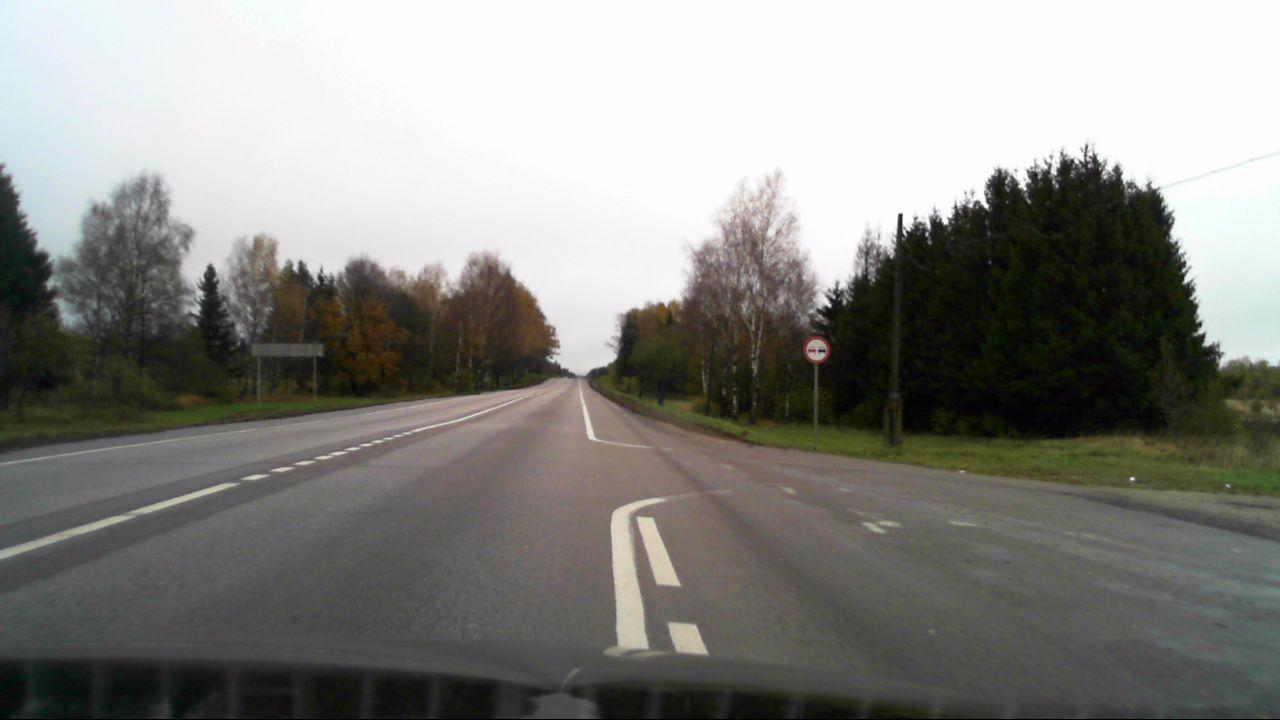3_20: (804, 337, 830, 362)
